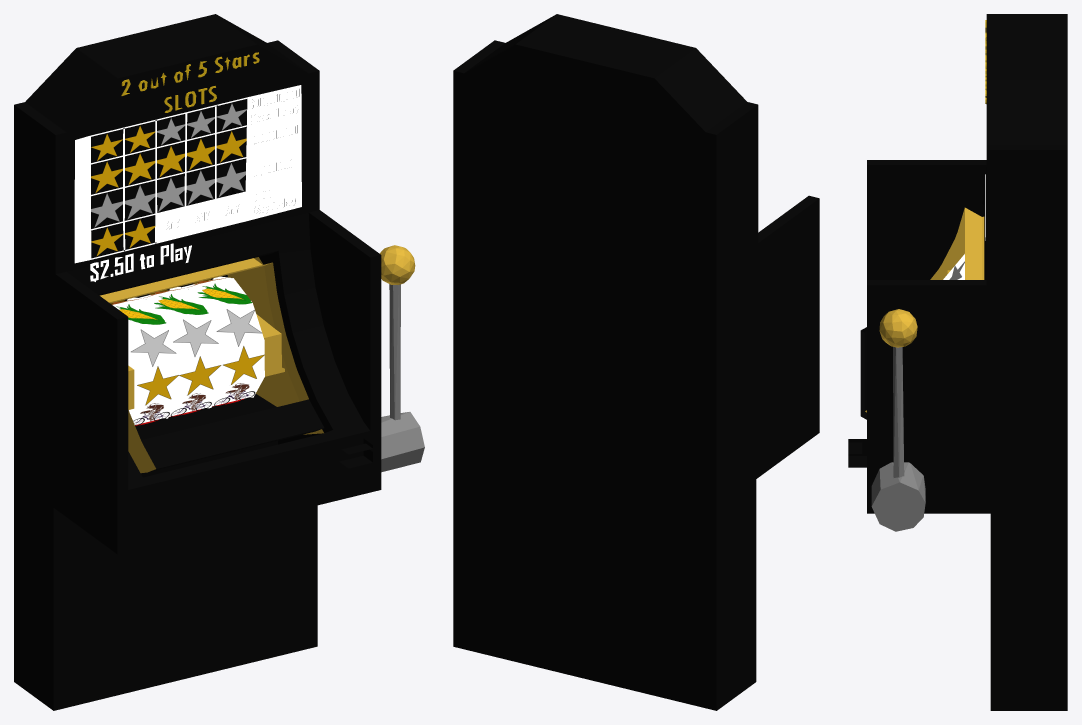
Rendered from Slot Machine.glb.
3 renders of one model, left to right at view 1: azimuth 30°, elevation 25°; view 2: azimuth 150°, elevation 25°; view 3: azimuth 270°, elevation 25°, orthographic. The views are drawn at different scales.
Visible parts, largest first — view 1: Slot Machine, Slot Wheel.002, Slot Wheel.001, Slot Wheel, Pull Handle; view 2: Slot Machine; view 3: Slot Machine, Pull Handle.
Part boxes in pixels (x1=…): Slot Machine: x1=14, y1=14, x2=381, y2=710; Slot Wheel.002: x1=177, y1=276, x2=264, y2=407; Slot Wheel.001: x1=137, y1=287, x2=221, y2=418; Slot Wheel: x1=110, y1=297, x2=179, y2=426; Pull Handle: x1=379, y1=245, x2=424, y2=472; Slot Machine: x1=453, y1=14, x2=819, y2=710; Slot Machine: x1=848, y1=14, x2=1067, y2=710; Pull Handle: x1=871, y1=309, x2=925, y2=531.
Bounding box in the file's own units: 1.03 × 1.96 × 0.6478.
19 materials, 10 textured.
